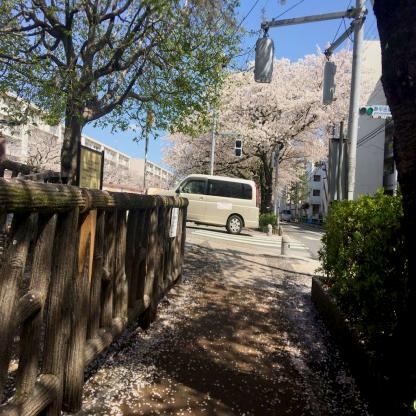Someiyoshino: (157, 34, 379, 202), (14, 121, 66, 173), (97, 160, 161, 188)
